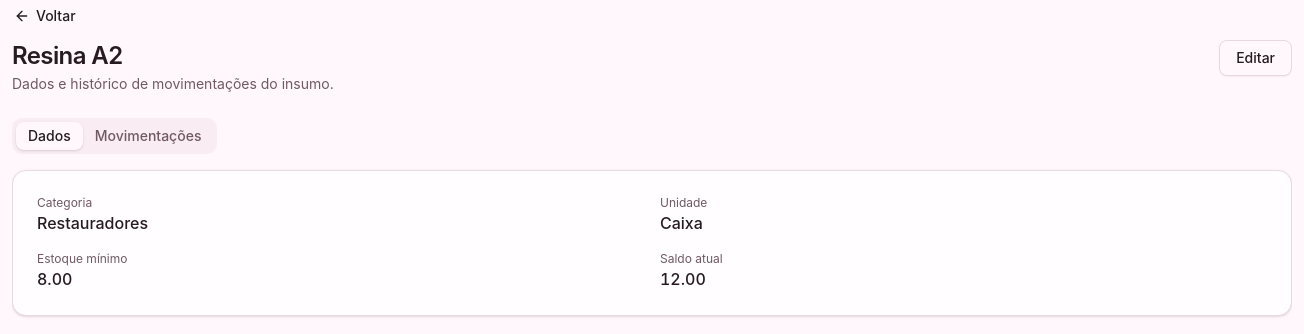
Test: InsumoDetalhePage › aba Movimentações mostra o histórico com saldo acumulado correto
Click the tab "Movimentações": (148, 136) [83,122,213,150]
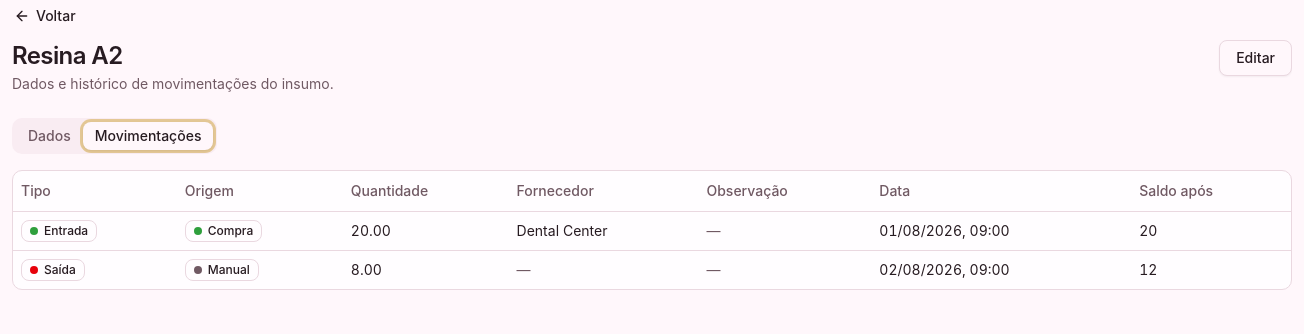
Check: the text "12" is shown, box [1139,260,1157,278]
Check: the table is shown, box [13,171,1291,288]
